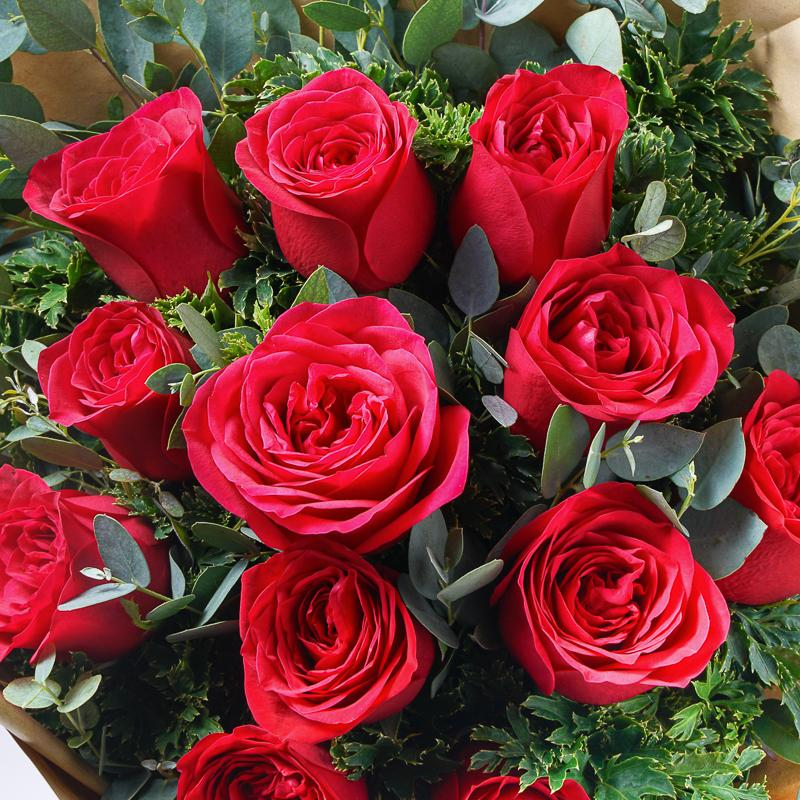Rose: (186, 307, 470, 548), (506, 488, 726, 698), (235, 68, 434, 282), (512, 248, 739, 428), (238, 552, 437, 736), (466, 69, 614, 259)
